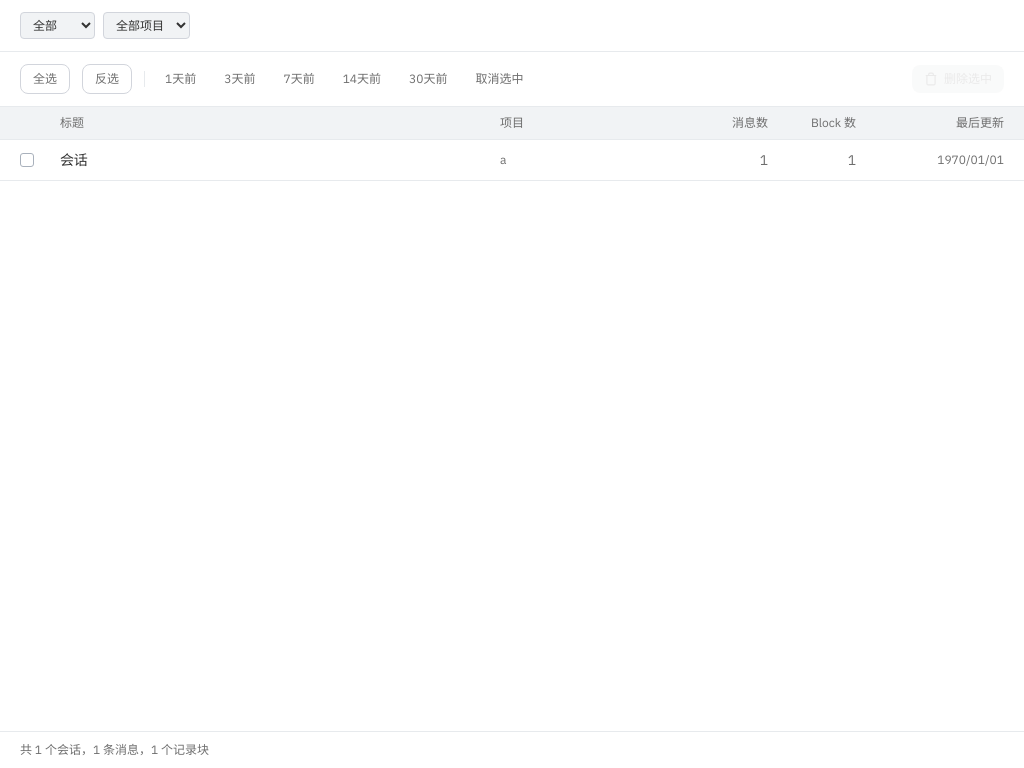
Scenario: ConversationsDialog — scope 推导（级联筛选） › 「未分组」且无顶层项目 → 空路径数组，不报错（空态仍可切回筛选）
The width and height of the screenshot is (1024, 768).
Select "未分组" in the dropdown named "项目组筛选". click: (58, 26)
box: [20,12,95,39]
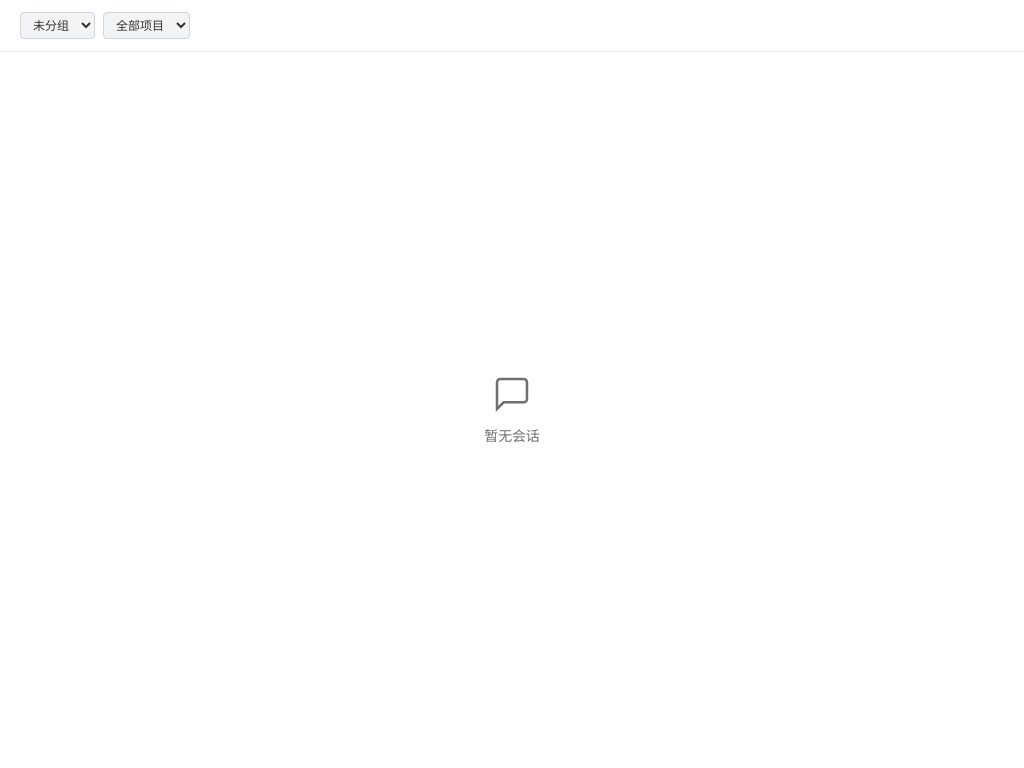
Check: the text "暂无会话" is shown, box [484,426,540,446]
